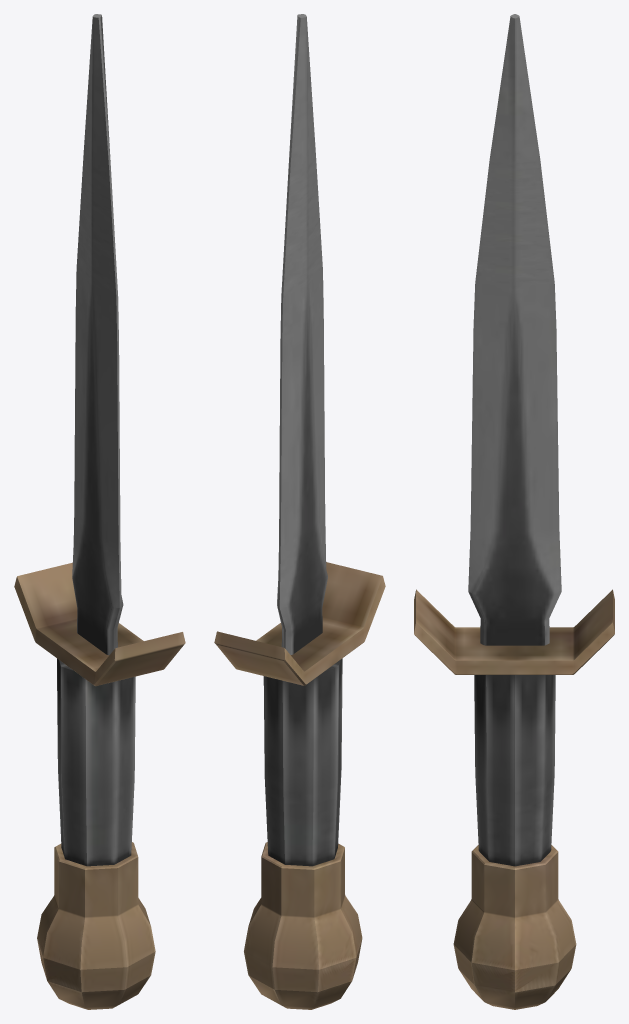
Rendered from noble_dagger.glb.
3 renders of one model, left to right at view 1: azimuth 30°, elevation 25°; view 2: azimuth 150°, elevation 25°; view 3: azimuth 270°, elevation 25°, orthographic.
Visible parts, largest first — view 1: Dagger4; view 2: Dagger4; view 3: Dagger4.
Boxes of the visible parts, box(x1,y1,x2,y2) form: Dagger4: box(14, 14, 185, 1009); Dagger4: box(214, 14, 385, 1009); Dagger4: box(414, 14, 614, 1009).
Size of the model in its own units: 0.0678 by 0.6004 by 0.1108.
Materials: 1 (1 with a texture image).
